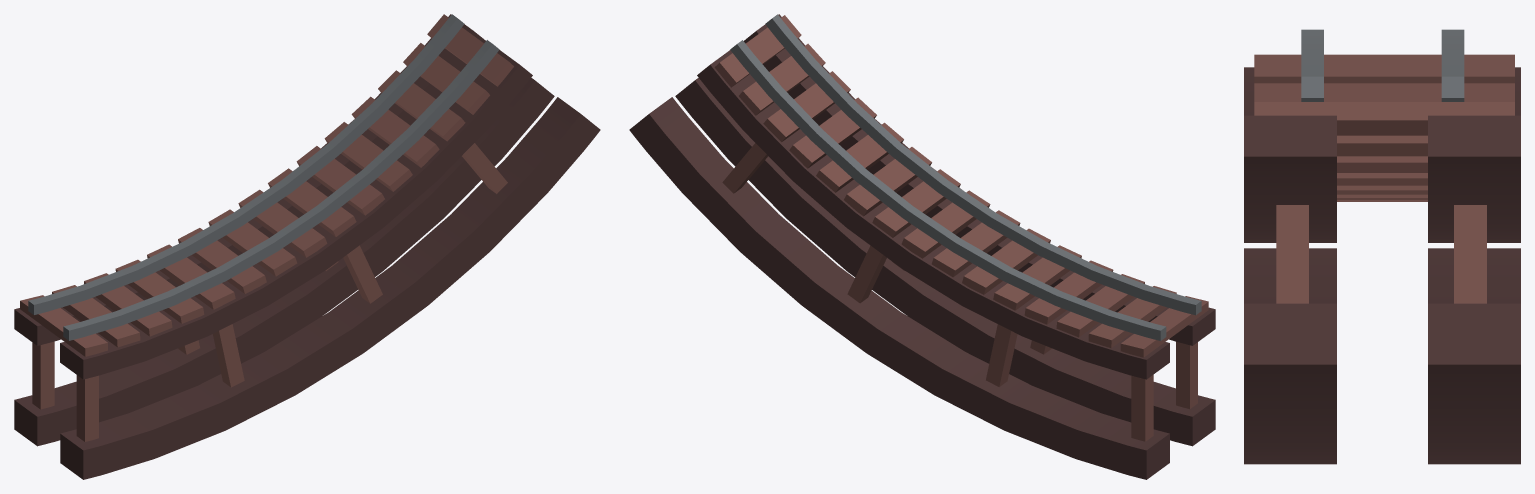
Rendered from DarkRoseWoodMechMedium0_8545GaugeRise1.fbx.
3 renders of one model, left to right at view 1: azimuth 30°, elevation 25°; view 2: azimuth 150°, elevation 25°; view 3: azimuth 270°, elevation 25°, orthographic. The views are drawn at different scales.
Parts seen in each view (by area): view 1: DarkRoseWoodMechMedium0_8545GaugeRise1; view 2: DarkRoseWoodMechMedium0_8545GaugeRise1; view 3: DarkRoseWoodMechMedium0_8545GaugeRise1.
Boxes of the visible parts, box(x1,y1,x2,y2) form: DarkRoseWoodMechMedium0_8545GaugeRise1: box(14, 14, 600, 479); DarkRoseWoodMechMedium0_8545GaugeRise1: box(629, 14, 1215, 479); DarkRoseWoodMechMedium0_8545GaugeRise1: box(1244, 29, 1520, 464).
Bounding box in the file's own units: 862 × 513 × 200.
